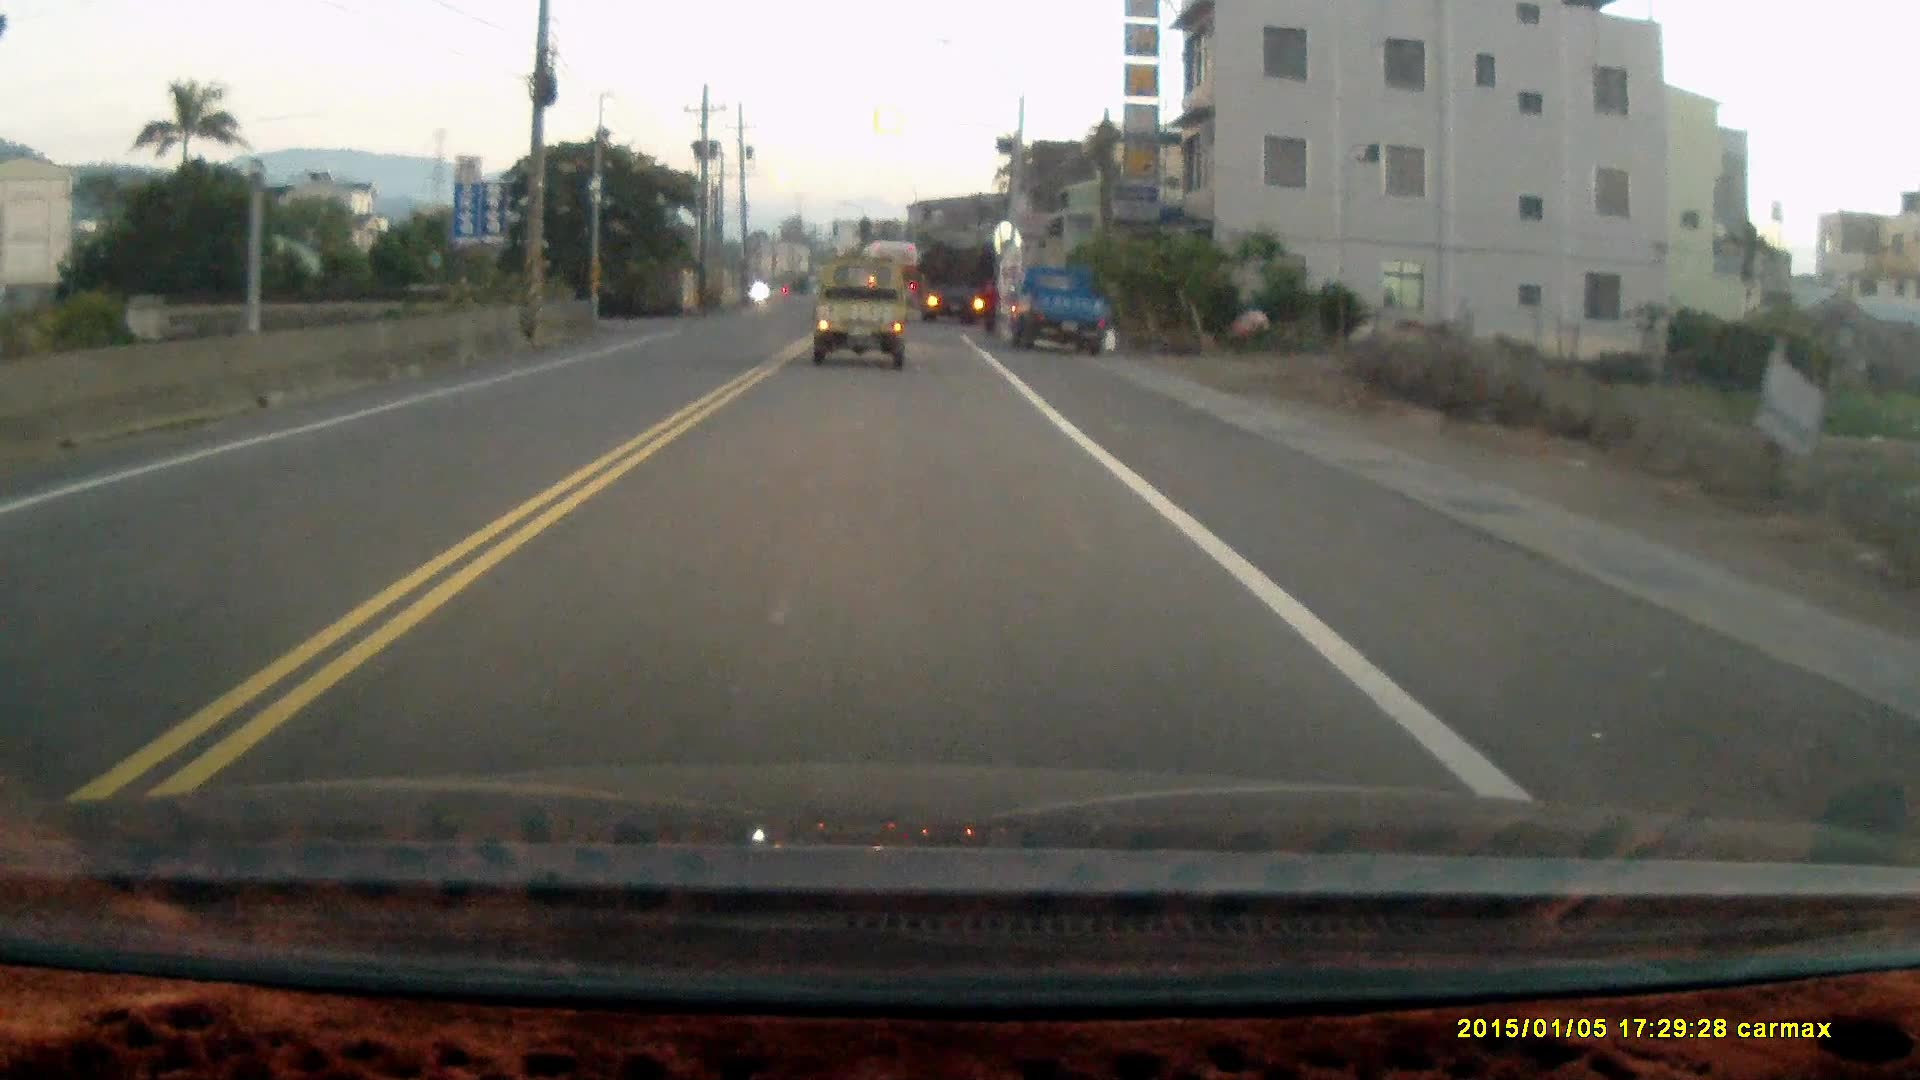vehicle: (810, 258, 913, 373), (1004, 265, 1120, 363), (920, 249, 996, 327)
